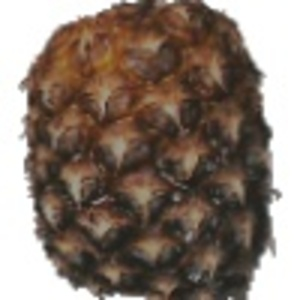abacaxi: (19, 3, 284, 292)
